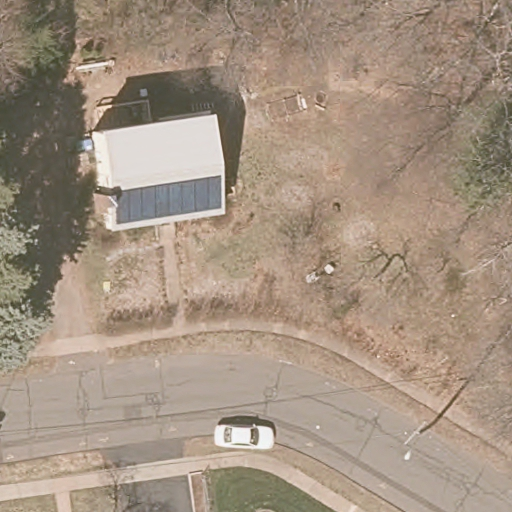DT: (403, 420, 427, 462)
